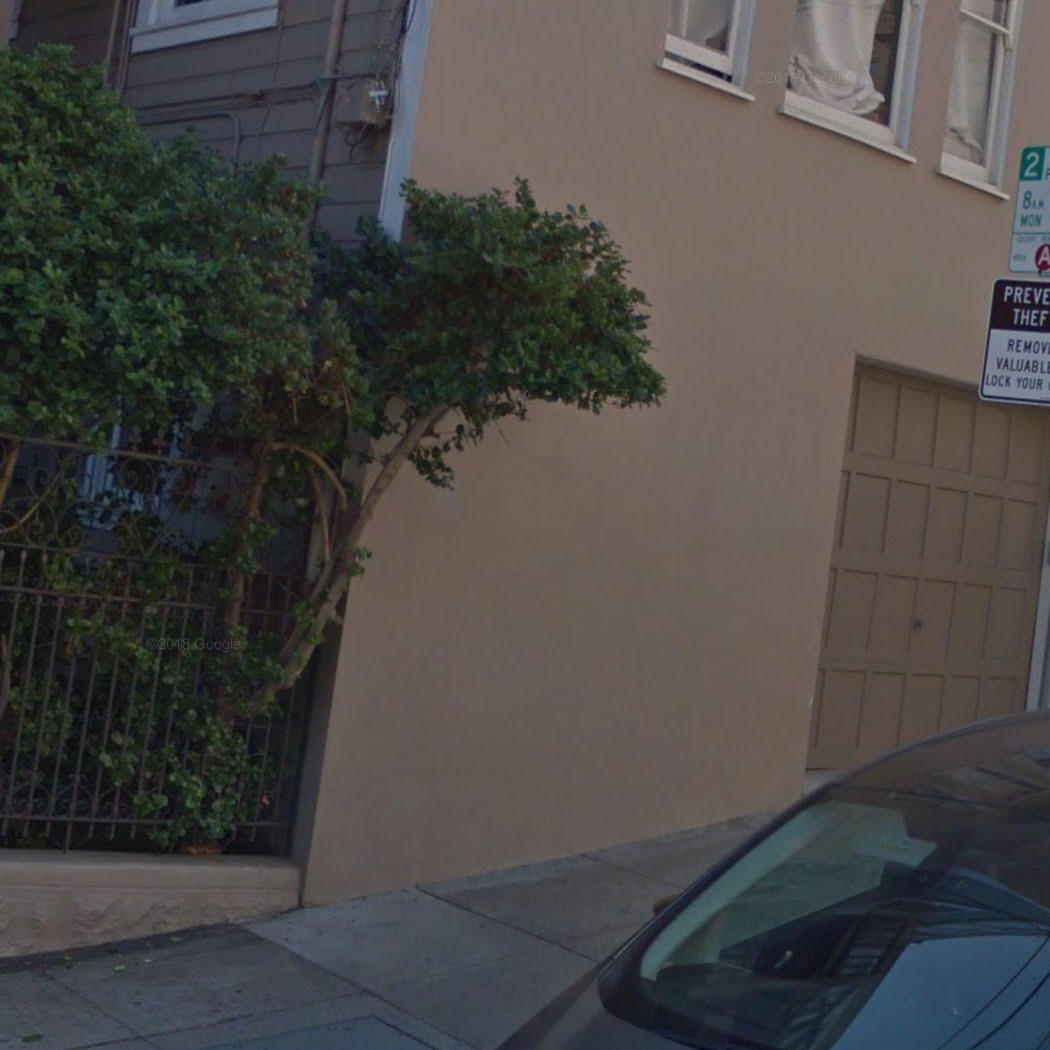2 Hour Parking: (1008, 148, 1050, 270)
